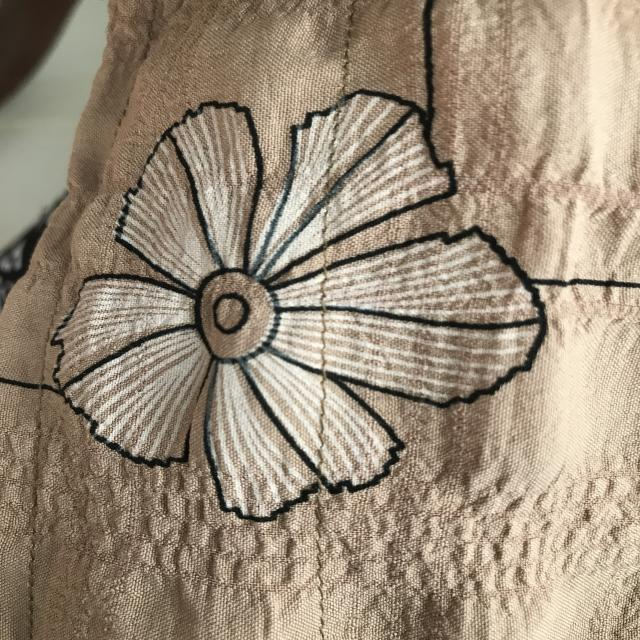good: (304, 313, 341, 369), (305, 390, 336, 449)
